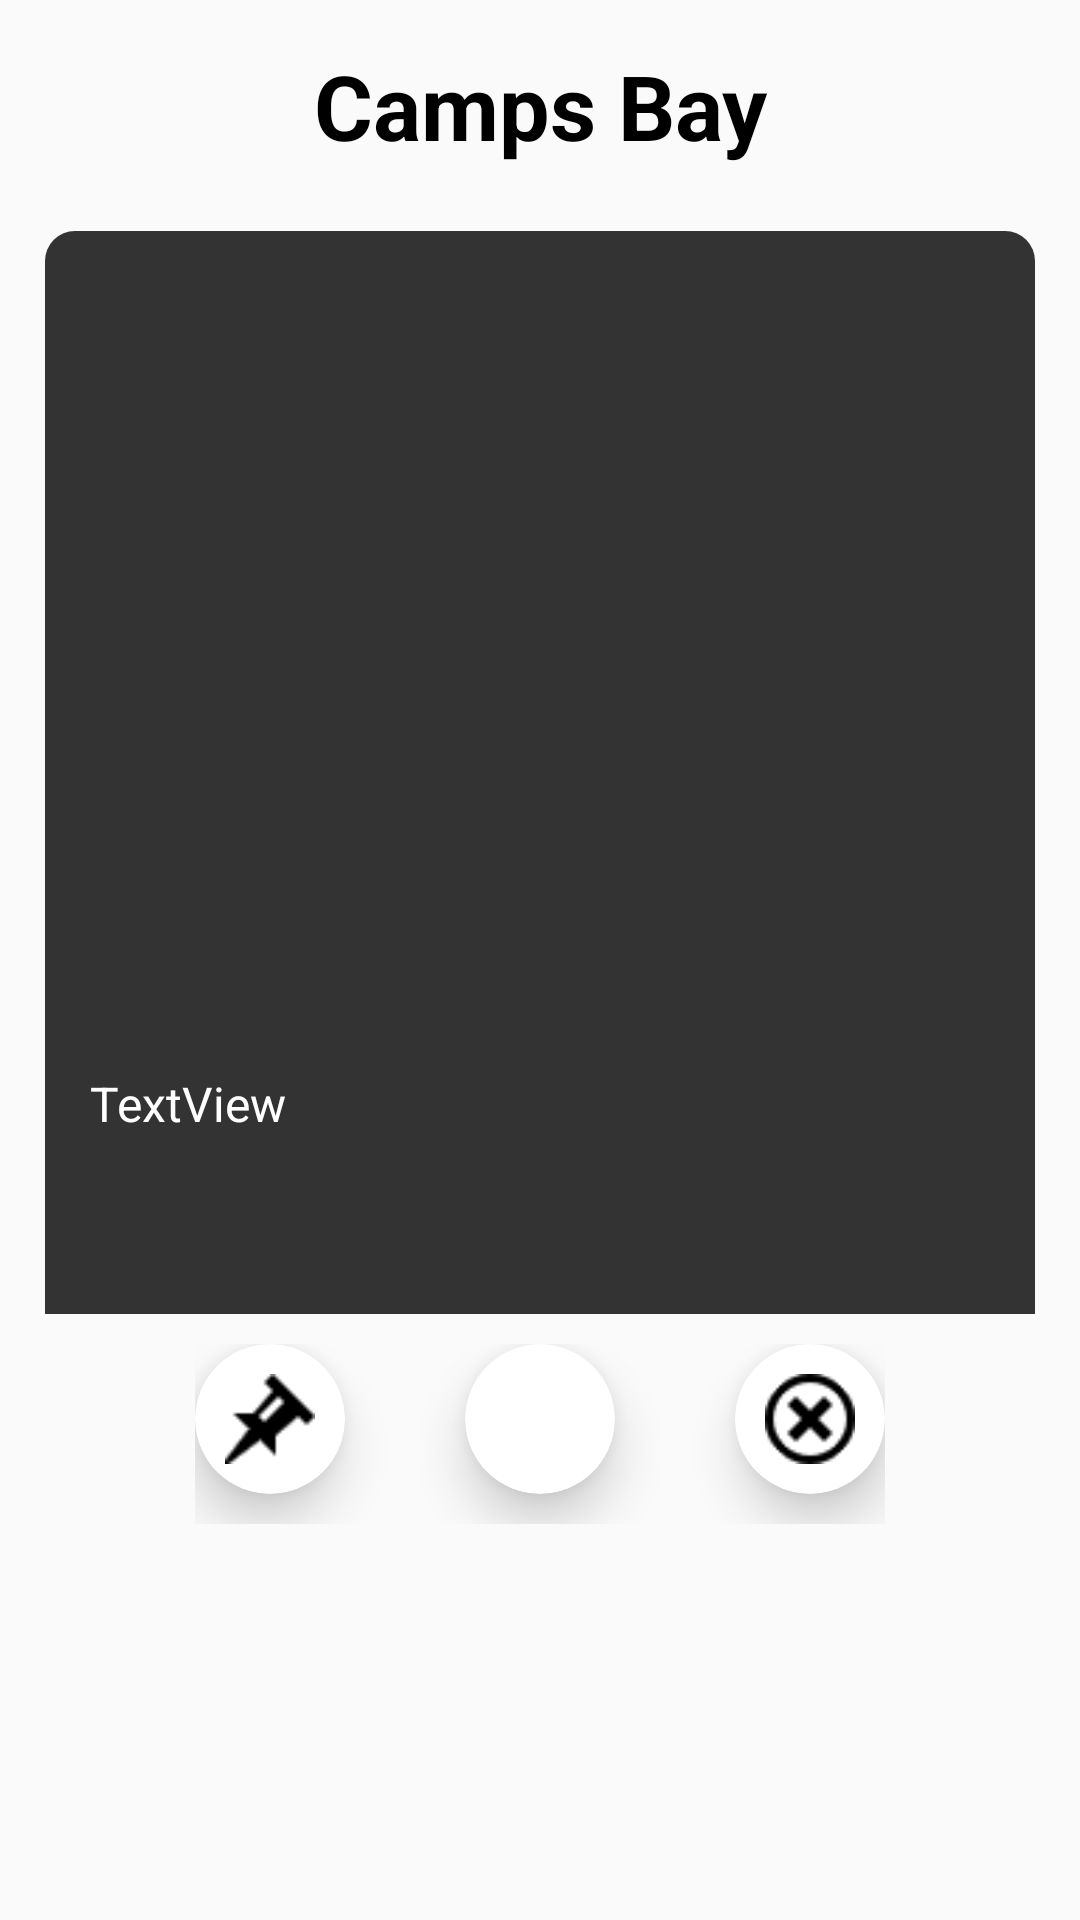

Point at icon controls on the screen. Image size 1080*1920, points as [x,y].
close: [810,1419]
pushpin: [270,1419]
